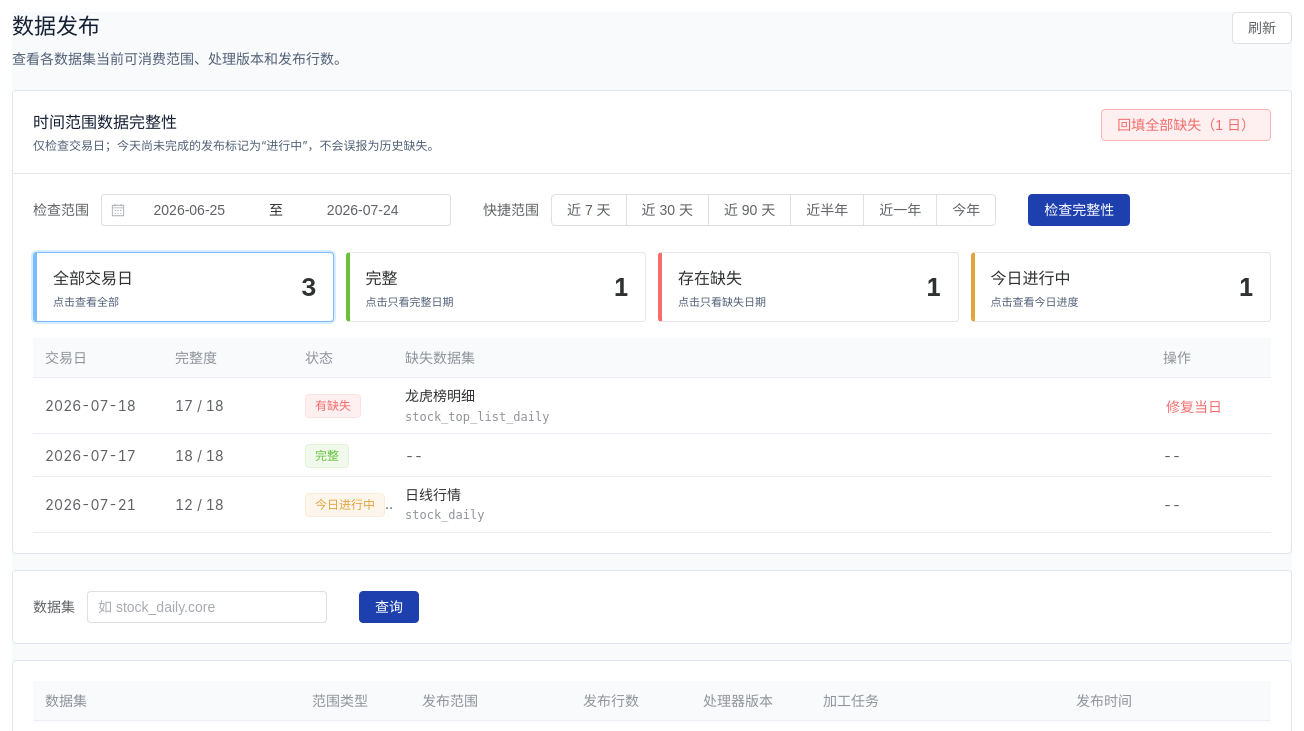
Test case: ReleasesView coverage recovery › filters the completeness table when a summary card is clicked
This screenshot has width=1304, height=731.
Expected: the element with test id "coverage-table" shows "2026-07-18", top-left (45, 397), bottom-right (136, 414)
Expected: the element with test id "coverage-table" shows "2026-07-17", top-left (45, 446), bottom-right (136, 464)
Click the button with test id "coverage-filter-complete": (382, 278) top-left (346, 252), bottom-right (646, 322)
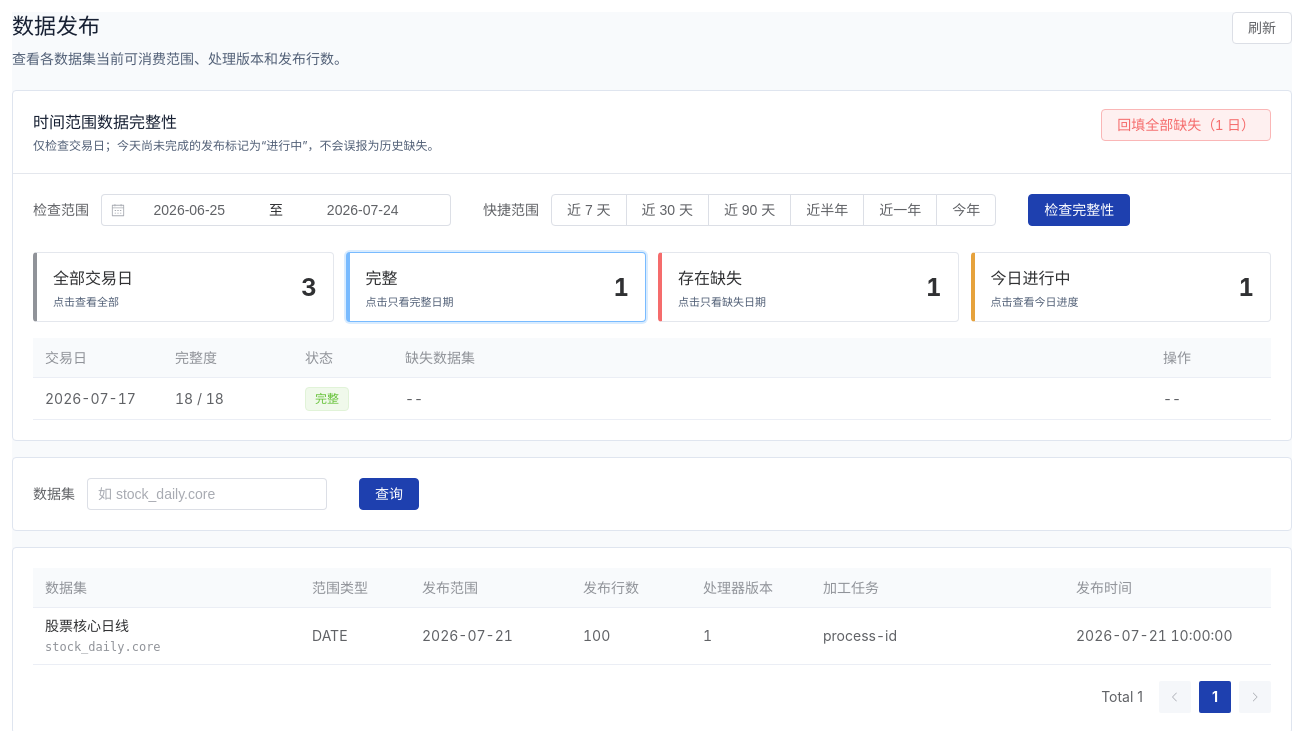
Expected: the element with test id "coverage-table" shows "2026-07-17", top-left (45, 390), bottom-right (136, 407)
Now the text with test id "coverage-table" no longer shows "2026-07-18"
Now the element with test id "coverage-table" no longer shows "2026-07-21"
Click the button with test id "coverage-filter-all": (93, 278) top-left (33, 252), bottom-right (334, 322)
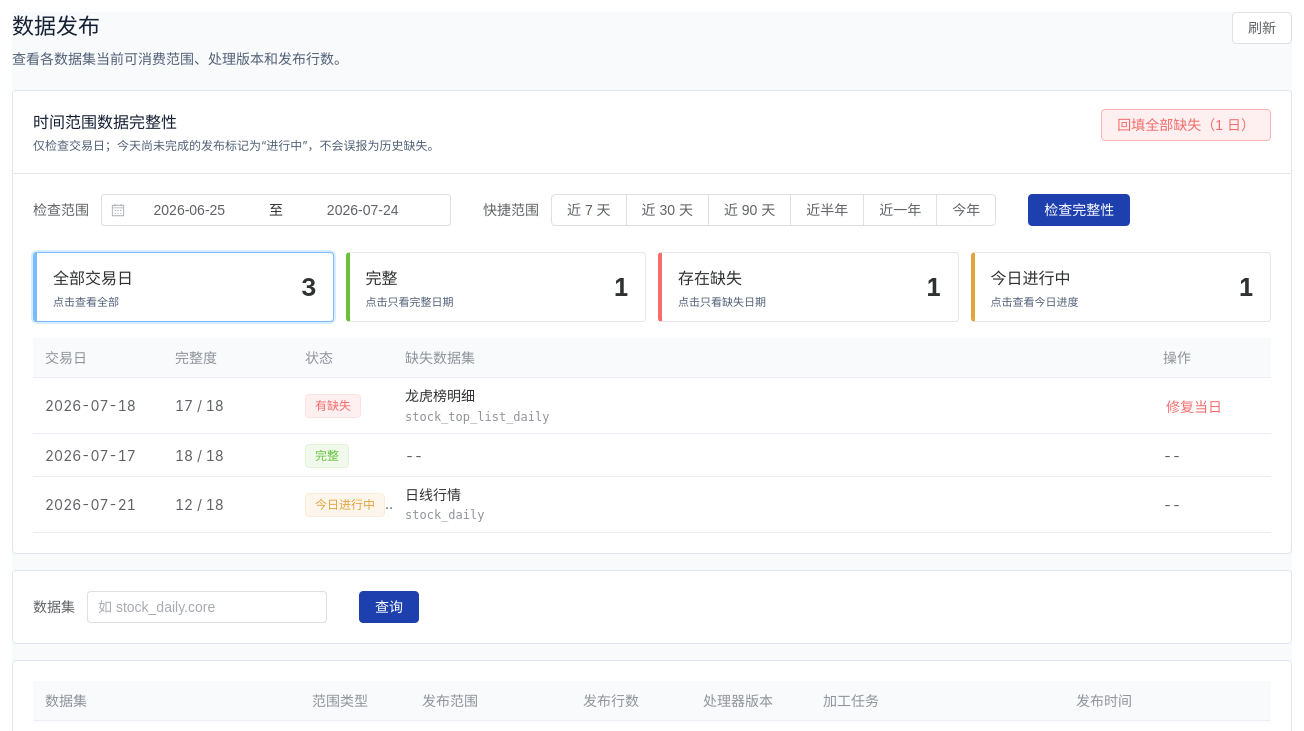
Expected: the element with test id "coverage-table" shows "2026-07-17", top-left (45, 446), bottom-right (136, 464)
Now the element with test id "coverage-table" shows "2026-07-18", box top-left (45, 397), bottom-right (136, 414)
Now the element with test id "coverage-table" shows "2026-07-21", box top-left (45, 496), bottom-right (136, 513)
